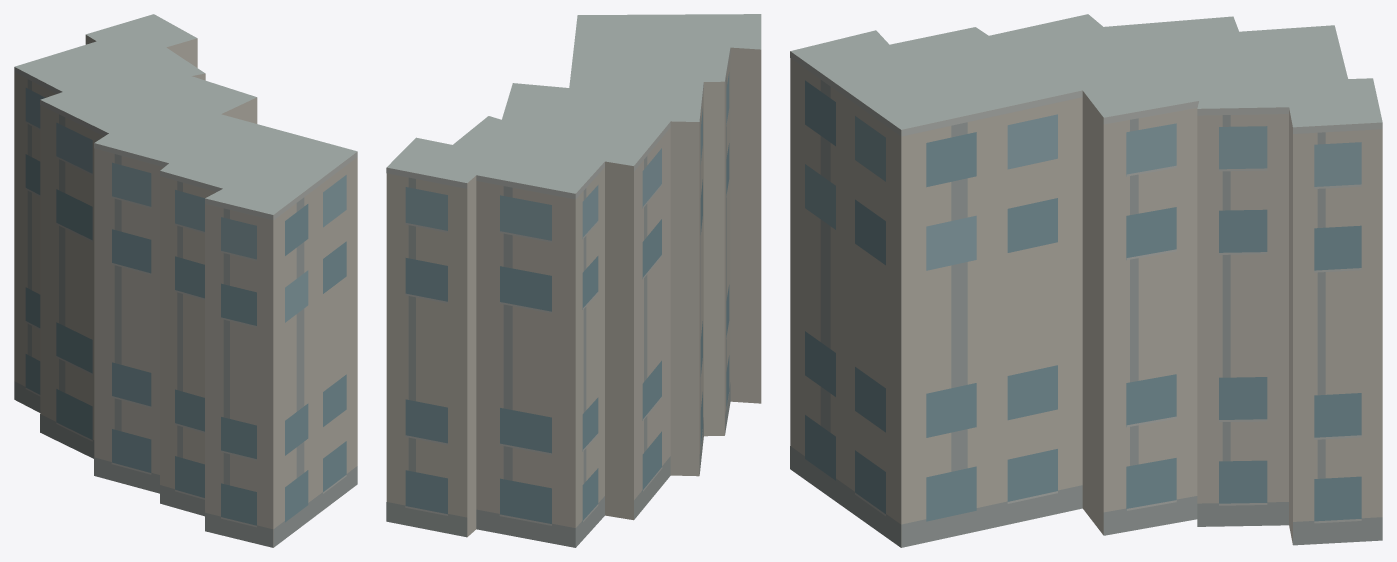
File: survey-upis-32804425.glb
3 renders of one model, left to right at view 1: azimuth 30°, elevation 25°; view 2: azimuth 150°, elevation 25°; view 3: azimuth 270°, elevation 25°, orthographic. The views are drawn at different scales.
Parts seen in each view (by area): view 1: survey-upis-32804425.tmp; view 2: survey-upis-32804425.tmp; view 3: survey-upis-32804425.tmp.
Part boxes in pixels (<box>): survey-upis-32804425.tmp: <box>14,14,357,547</box>; survey-upis-32804425.tmp: <box>386,14,761,547</box>; survey-upis-32804425.tmp: <box>790,14,1382,547</box>.
Bounding box in the file's own units: 9.02 × 15.15 × 19.47.
